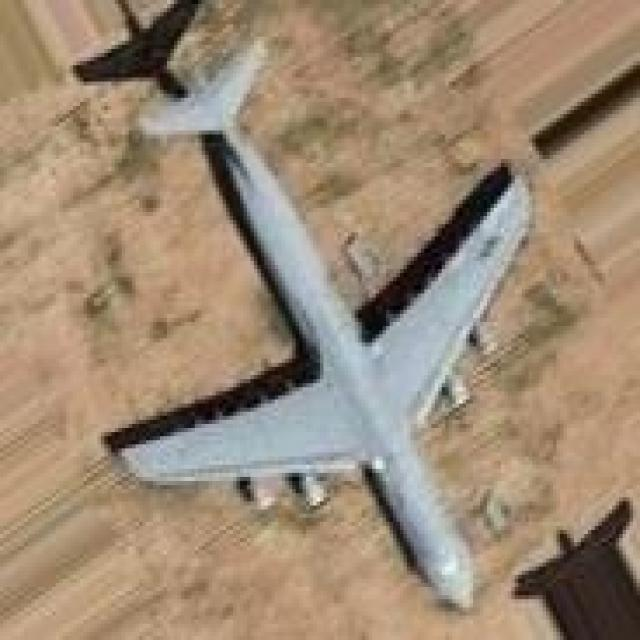C-5_TopDown: (62, 0, 535, 611)
